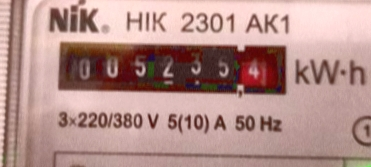0: (76, 55, 92, 80), (104, 54, 120, 78)
2: (159, 52, 176, 79)
3: (186, 50, 204, 76)
4: (244, 52, 263, 82)
5: (214, 50, 231, 79), (132, 52, 147, 77)
screen: (44, 25, 297, 108)
